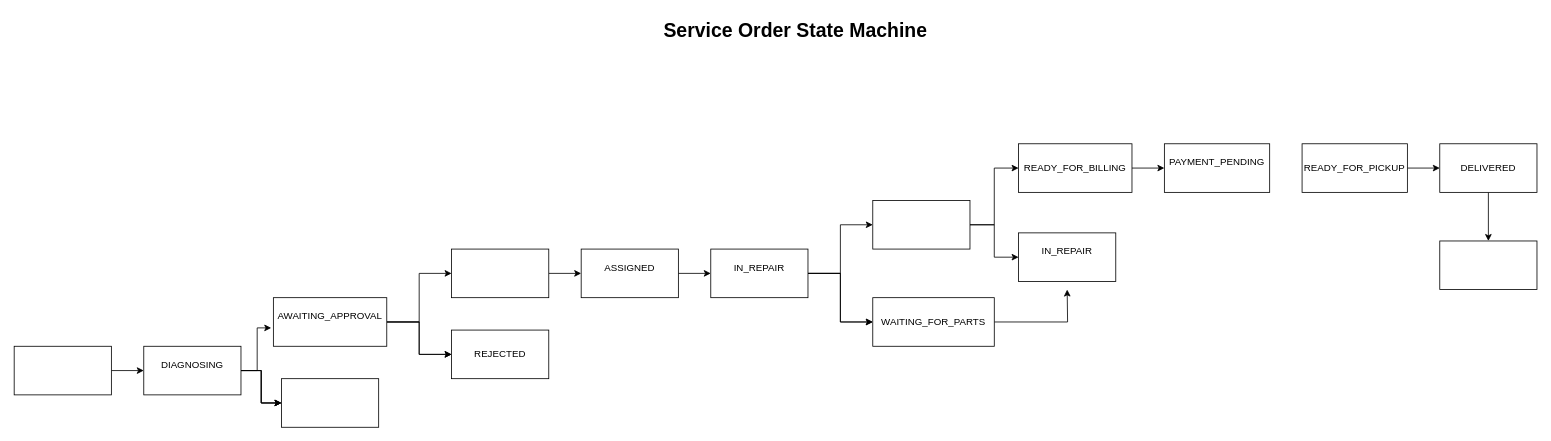
The diagram is 1551 pixels wide and 441 high, and some of its shapes have lost their labels. Each missing label, with the centre of its shape:
APPROVED: point (500, 273)
CLOSED: point (1488, 265)
QUALITY_CHECK: point (921, 224)
RECEIVED: point (62, 370)
UNREPAIRABLE: point (330, 402)
